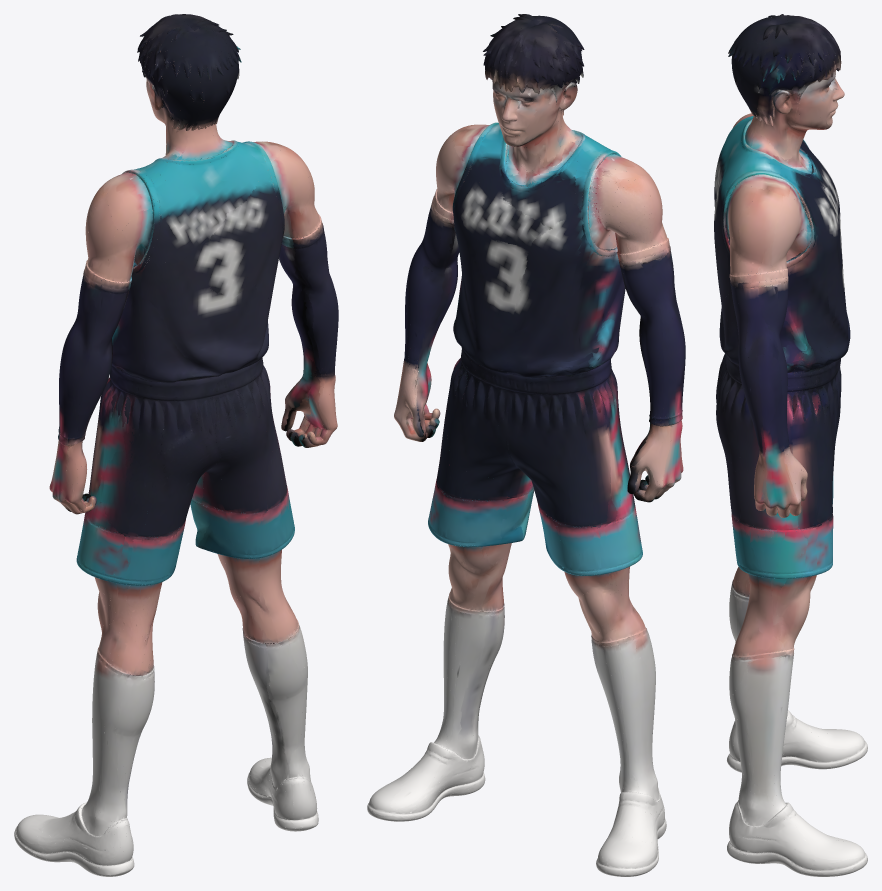
Rendered from 吴昊阳趴姿优化.glb.
3 views of the same model, side by side, from view 1: azimuth 30°, elevation 25°; view 2: azimuth 150°, elevation 25°; view 3: azimuth 270°, elevation 25° (orthographic). The views are drawn at different scales.
Visible parts, largest first — view 1: lo; view 2: lo; view 3: lo.
Boxes of the visible parts, x1=… form: lo: x1=14, y1=14, x2=338, y2=876; lo: x1=367, y1=14, x2=685, y2=876; lo: x1=714, y1=14, x2=867, y2=876.
Size of the model in its own units: 0.4113 by 1.13 by 0.1992.
1 material, 1 textured.
